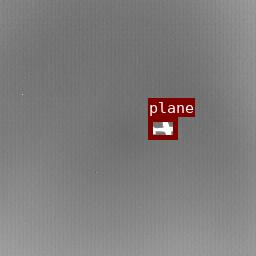plane: (148, 117, 177, 139)
